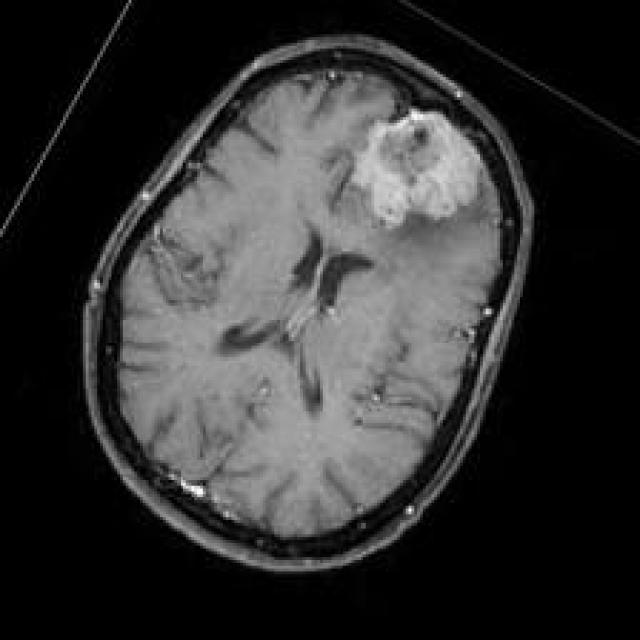meningioma_tumor: (345, 91, 504, 239)
